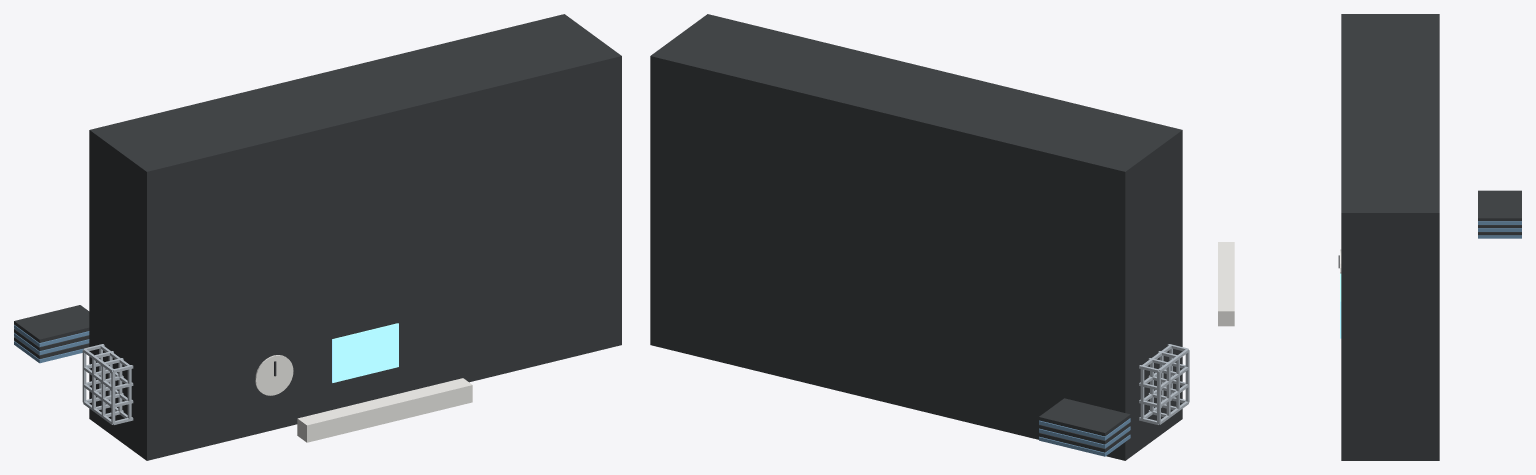
Rendered from specimens.glb.
3 renders of one model, left to right at view 1: azimuth 30°, elevation 25°; view 2: azimuth 150°, elevation 25°; view 3: azimuth 270°, elevation 25°, orthographic. The views are drawn at different scales.
Parts seen in each view (by area): view 1: Proxy_Machine, Bar_Ceramic, Panel, Machine_Display, Lattice_Block, Machine_Dial; view 2: Proxy_Machine, Panel, Lattice_Block; view 3: Proxy_Machine, Panel, Bar_Ceramic.
Part boxes in pixels (box(x1,y1,x2,y2)): Proxy_Machine: box(89, 14, 621, 460); Bar_Ceramic: box(297, 378, 472, 442); Panel: box(14, 305, 89, 363); Machine_Display: box(332, 323, 398, 382); Lattice_Block: box(82, 344, 133, 424); Machine_Dial: box(255, 355, 293, 395); Proxy_Machine: box(650, 14, 1182, 460); Panel: box(1039, 398, 1130, 456); Lattice_Block: box(1139, 344, 1189, 424); Proxy_Machine: box(1341, 14, 1439, 460); Panel: box(1478, 190, 1521, 238); Bar_Ceramic: box(1218, 242, 1234, 326).
Size of the model in its own units: 9.1 by 5 by 5.55.
